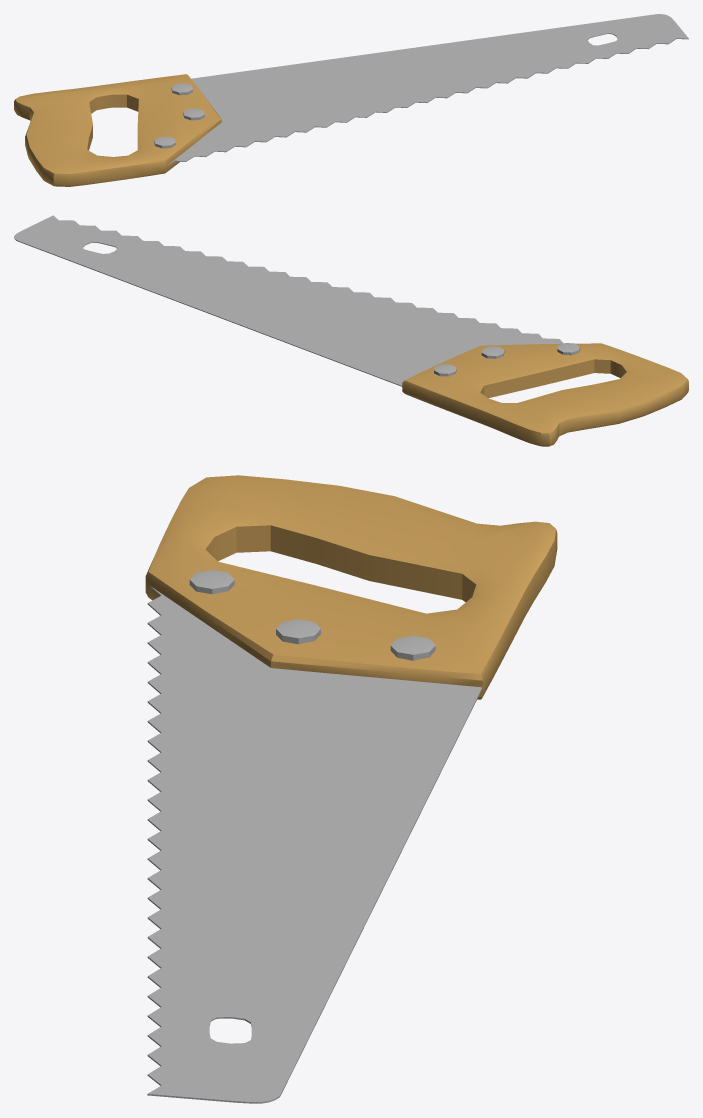
The model's file is Gergaji.fbx.
The picture shows the model from 3 angles, top to bottom: view 1: azimuth 30°, elevation 25°; view 2: azimuth 150°, elevation 25°; view 3: azimuth 270°, elevation 25°; orthographic projection. The views are drawn at different scales.
Parts seen in each view (by area): view 1: Gergaji.002; view 2: Gergaji.002; view 3: Gergaji.002.
Boxes of the visible parts, x1,y1,x2,y2 form: Gergaji.002: (14, 14, 688, 186); Gergaji.002: (14, 215, 688, 446); Gergaji.002: (145, 475, 557, 1103).
Size of the model in its own units: 51.7 by 1.79 by 14.6.
